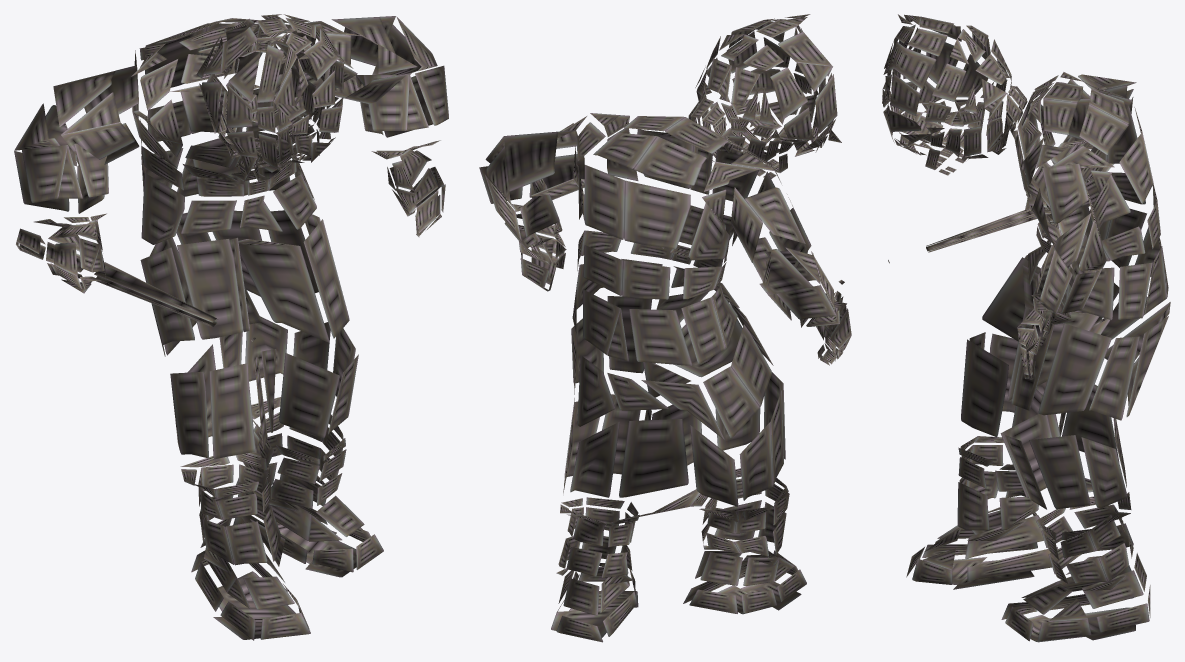
3 views of the same model, side by side, from view 1: azimuth 30°, elevation 25°; view 2: azimuth 150°, elevation 25°; view 3: azimuth 270°, elevation 25° (orthographic). The views are drawn at different scales.
Visible parts, largest first — view 1: T1L7M002_0; view 2: T1L7M002_0; view 3: T1L7M002_0.
Boxes of the visible parts, bbox=[...] form: T1L7M002_0: bbox=[14, 14, 448, 640]; T1L7M002_0: bbox=[479, 14, 851, 642]; T1L7M002_0: bbox=[882, 14, 1170, 642].
Size of the model in its own units: 0.8007 by 1.15 by 0.546.
